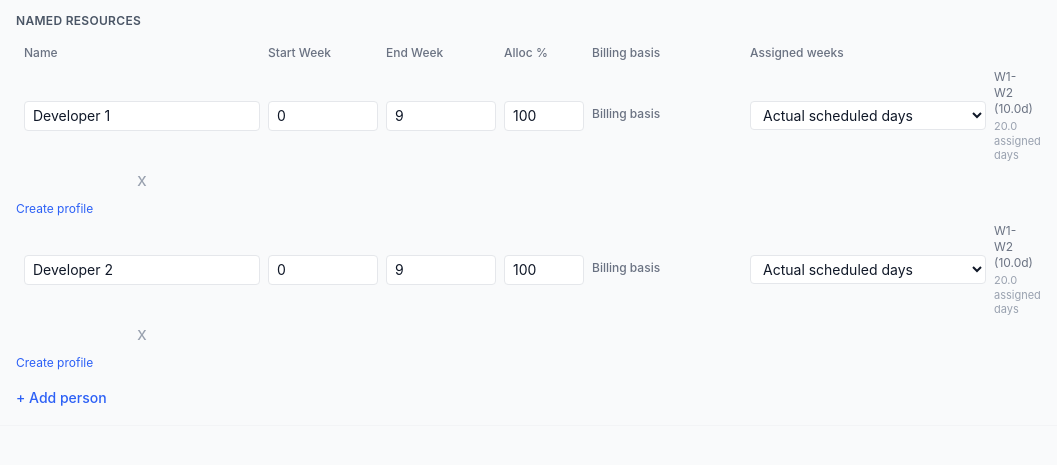
NamedResourcesPanel — first-class capacity edits (#403) › a planner-managed 409 from a capacity edit surfaces the actionable message (#403 finding 4)
The image size is (1057, 465).
Step 1. Replace the text in the 3rd number field with "80" → [544, 116], box left=504, top=101, right=584, bottom=131
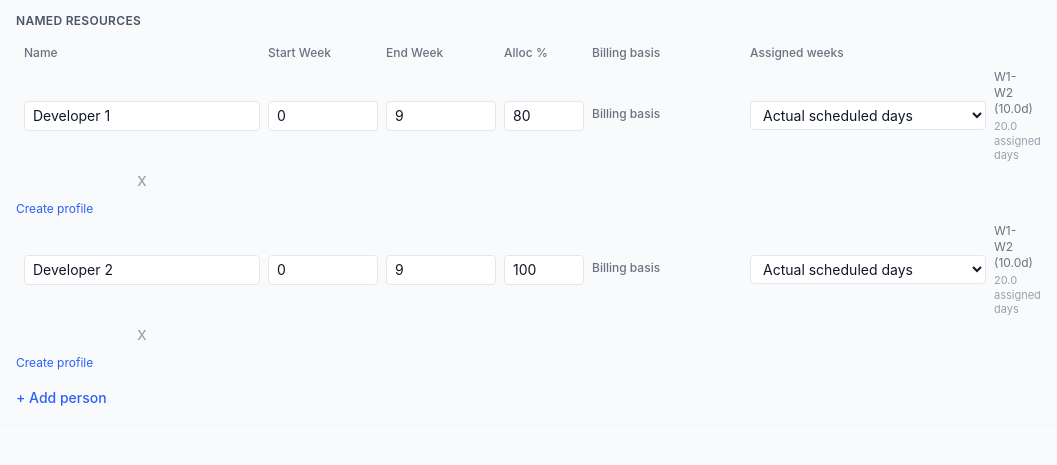
Step 2. Leave the 3rd number field, box left=504, top=101, right=584, bottom=131
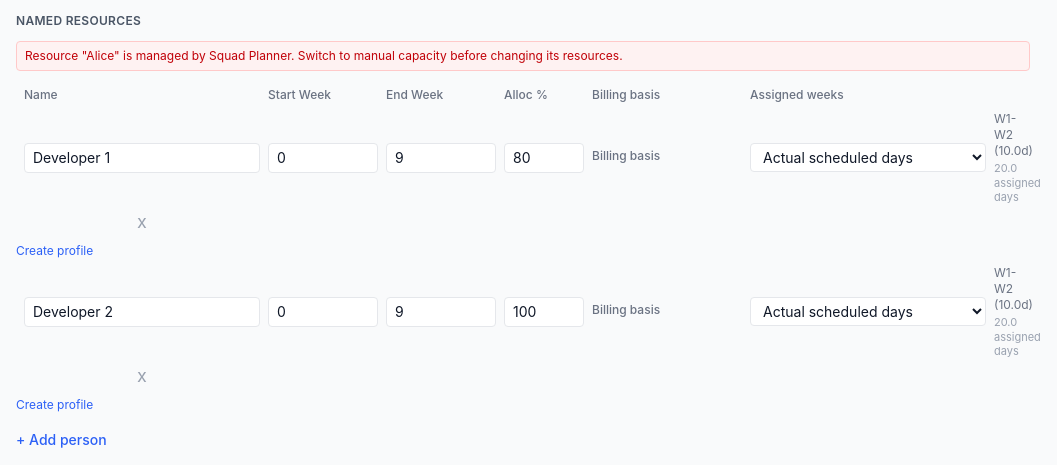
expect the message shows "Switch to manual capacity": met, box left=25, top=48, right=623, bottom=63
